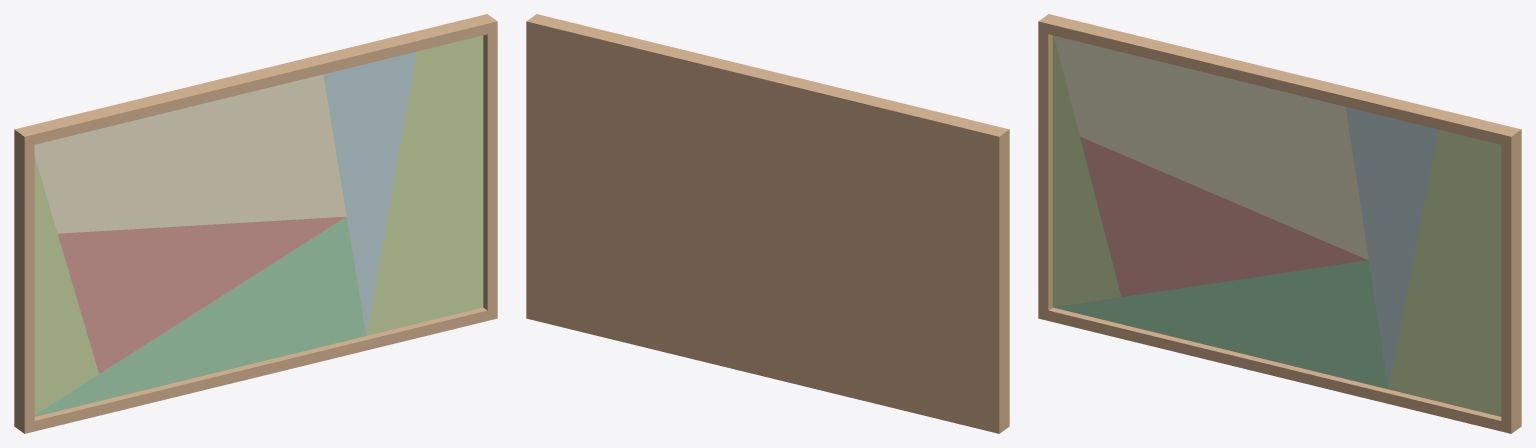
The model's file is picture2.fbx.
3 views of the same model, side by side, from view 1: azimuth 30°, elevation 25°; view 2: azimuth 150°, elevation 25°; view 3: azimuth 330°, elevation 25° (orthographic).
Visible parts, largest first — view 1: Cube_12; view 2: Cube_12; view 3: Cube_12.
Boxes of the visible parts, <box> form: Cube_12: <box>14,14,497,433</box>; Cube_12: <box>526,14,1009,433</box>; Cube_12: <box>1038,14,1521,433</box>.
Bounding box in the file's own units: 42.49 × 25.51 × 1.58.
